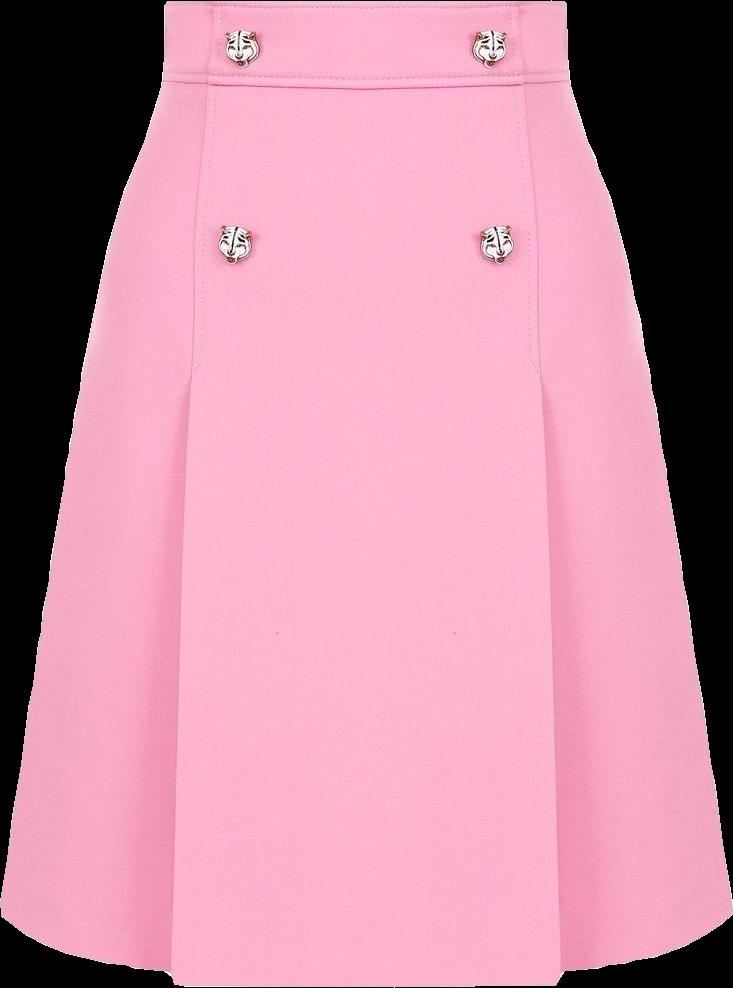Hemline: (0, 907, 732, 987)
Waistline: (158, 71, 574, 96), (163, 0, 566, 17)
